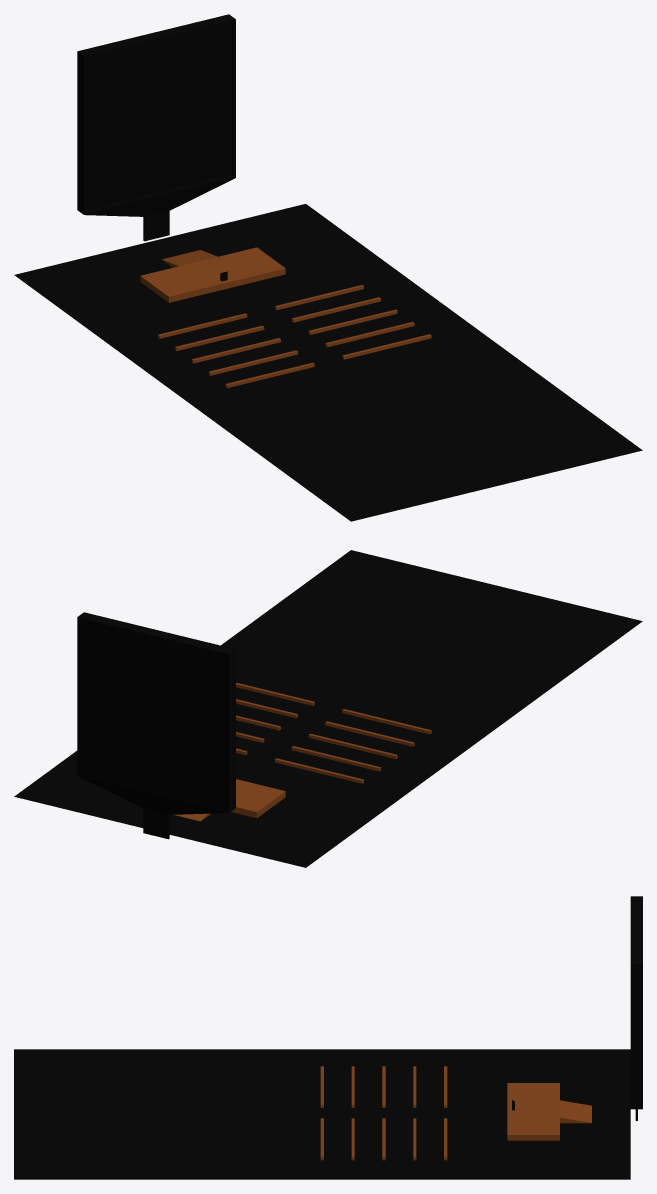
3 renders of one model, top to bottom at view 1: azimuth 30°, elevation 25°; view 2: azimuth 150°, elevation 25°; view 3: azimuth 270°, elevation 25°, orthographic. The views are drawn at different scales.
Parts seen in each view (by area): view 1: floor, screen, platform; view 2: floor, screen, platform, bench1.006, bench1.002, bench1.008, bench1.004, bench1; view 3: floor, platform, screen.
Boxes of the visible parts, box(x1,y1,x2,y2) form: floor: box(14, 204, 642, 521); screen: box(77, 14, 235, 241); platform: box(140, 247, 285, 302); floor: box(14, 550, 642, 867); screen: box(77, 612, 235, 839); platform: box(173, 779, 285, 821); bench1.006: box(325, 721, 414, 746); bench1.002: box(291, 746, 380, 771); bench1.008: box(342, 709, 431, 734); bench1.004: box(308, 733, 397, 758); bench1: box(275, 758, 363, 783); floor: box(14, 1049, 630, 1179); platform: box(507, 1083, 591, 1140); screen: box(630, 896, 642, 1120).
Bounding box in the file's own units: 50 × 33.17 × 102.
Materials: 3 (1 with a texture image).
